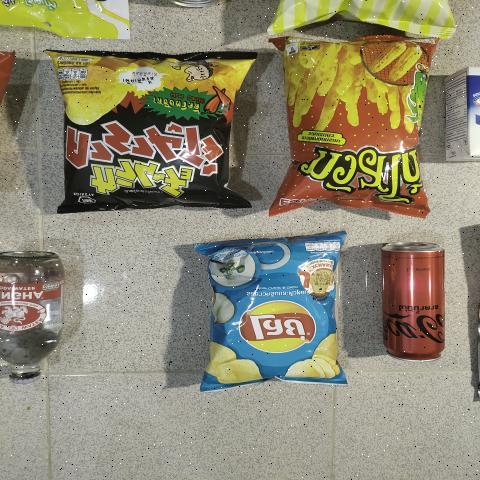coke_red: (380, 240, 450, 362)
karamujo: (61, 55, 236, 206)
lay_blue: (214, 253, 339, 375)
singha_soda: (0, 248, 73, 394)
twisco: (292, 36, 427, 210)
